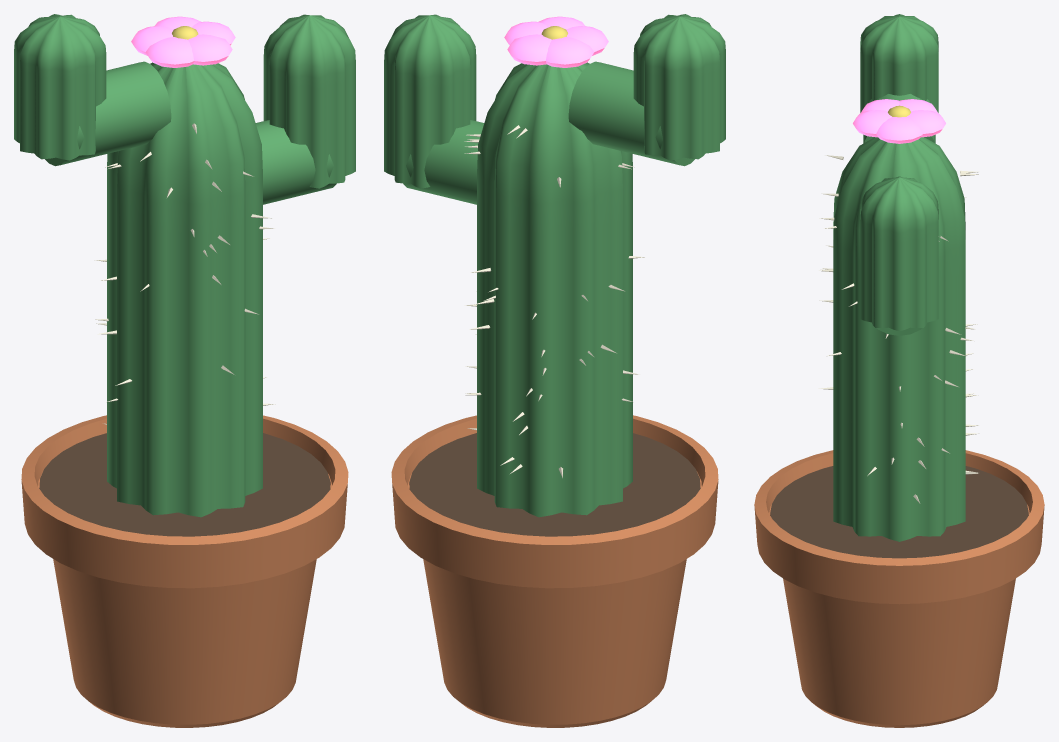
The model's file is cactus.glb.
3 renders of one model, left to right at view 1: azimuth 30°, elevation 25°; view 2: azimuth 150°, elevation 25°; view 3: azimuth 270°, elevation 25°, orthographic. The views are drawn at different scales.
Parts seen in each view (by area): view 1: trunk, pot, soil, arm, arm.001, elbow.001, elbow, petal.003, petal.004, spines, petal.002, petal; view 2: trunk, pot, soil, arm, arm.001, elbow.001, elbow, petal.002, spines, petal.001, petal.003, petal; view 3: pot, trunk, arm, soil, arm.001, spines, petal, petal.001, petal.004.
Part boxes in pixels (<box>): trunk: <box>107,62,262,517</box>; pot: <box>21,415,348,727</box>; soil: <box>39,433,330,536</box>; arm: <box>263,14,355,188</box>; arm.001: <box>14,14,106,160</box>; elbow.001: <box>45,61,171,166</box>; elbow: <box>255,120,336,204</box>; petal.003: <box>145,37,193,67</box>; petal.004: <box>188,34,232,65</box>; spines: <box>94,123,275,424</box>; petal.002: <box>131,26,173,55</box>; petal: <box>192,21,235,45</box>; trunk: <box>477,62,632,517</box>; pot: <box>391,415,718,727</box>; soil: <box>409,433,700,536</box>; arm: <box>384,14,476,188</box>; arm.001: <box>633,14,725,160</box>; elbow.001: <box>568,61,694,166</box>; elbow: <box>403,120,484,204</box>; petal.002: <box>546,37,594,67</box>; spines: <box>464,125,644,477</box>; petal.001: <box>507,34,551,65</box>; petal.003: <box>566,26,608,55</box>; petal: <box>504,21,547,45</box>; pot: <box>754,450,1044,727</box>; trunk: <box>833,137,965,541</box>; arm: <box>860,176,938,331</box>; soil: <box>770,466,1028,558</box>; arm.001: <box>860,14,938,112</box>; spines: <box>818,155,979,503</box>; petal: <box>876,117,922,143</box>; petal.001: <box>907,110,945,137</box>; petal.004: <box>853,110,891,137</box>.
Bounding box in the file's own units: 11.63 × 23.5 × 10.
